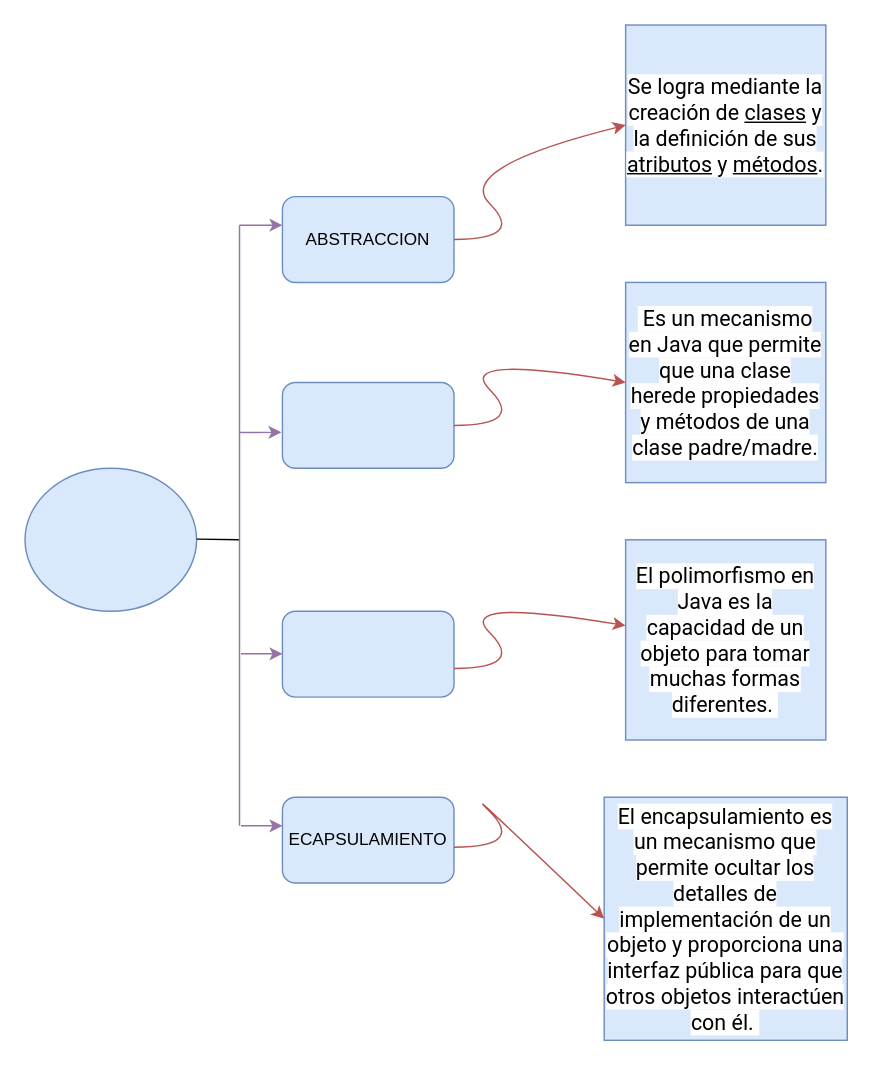
This 872x1065 diagram has some shape labels left out. The shapes that lost their labels are listed below. From the top down, each one's box as (x1, y1, x2, y2) in pixels, then its label:
(281, 381, 454, 468): HERENCIA
(24, 467, 197, 611): POO
(281, 610, 454, 697): POLIMORFISMO
